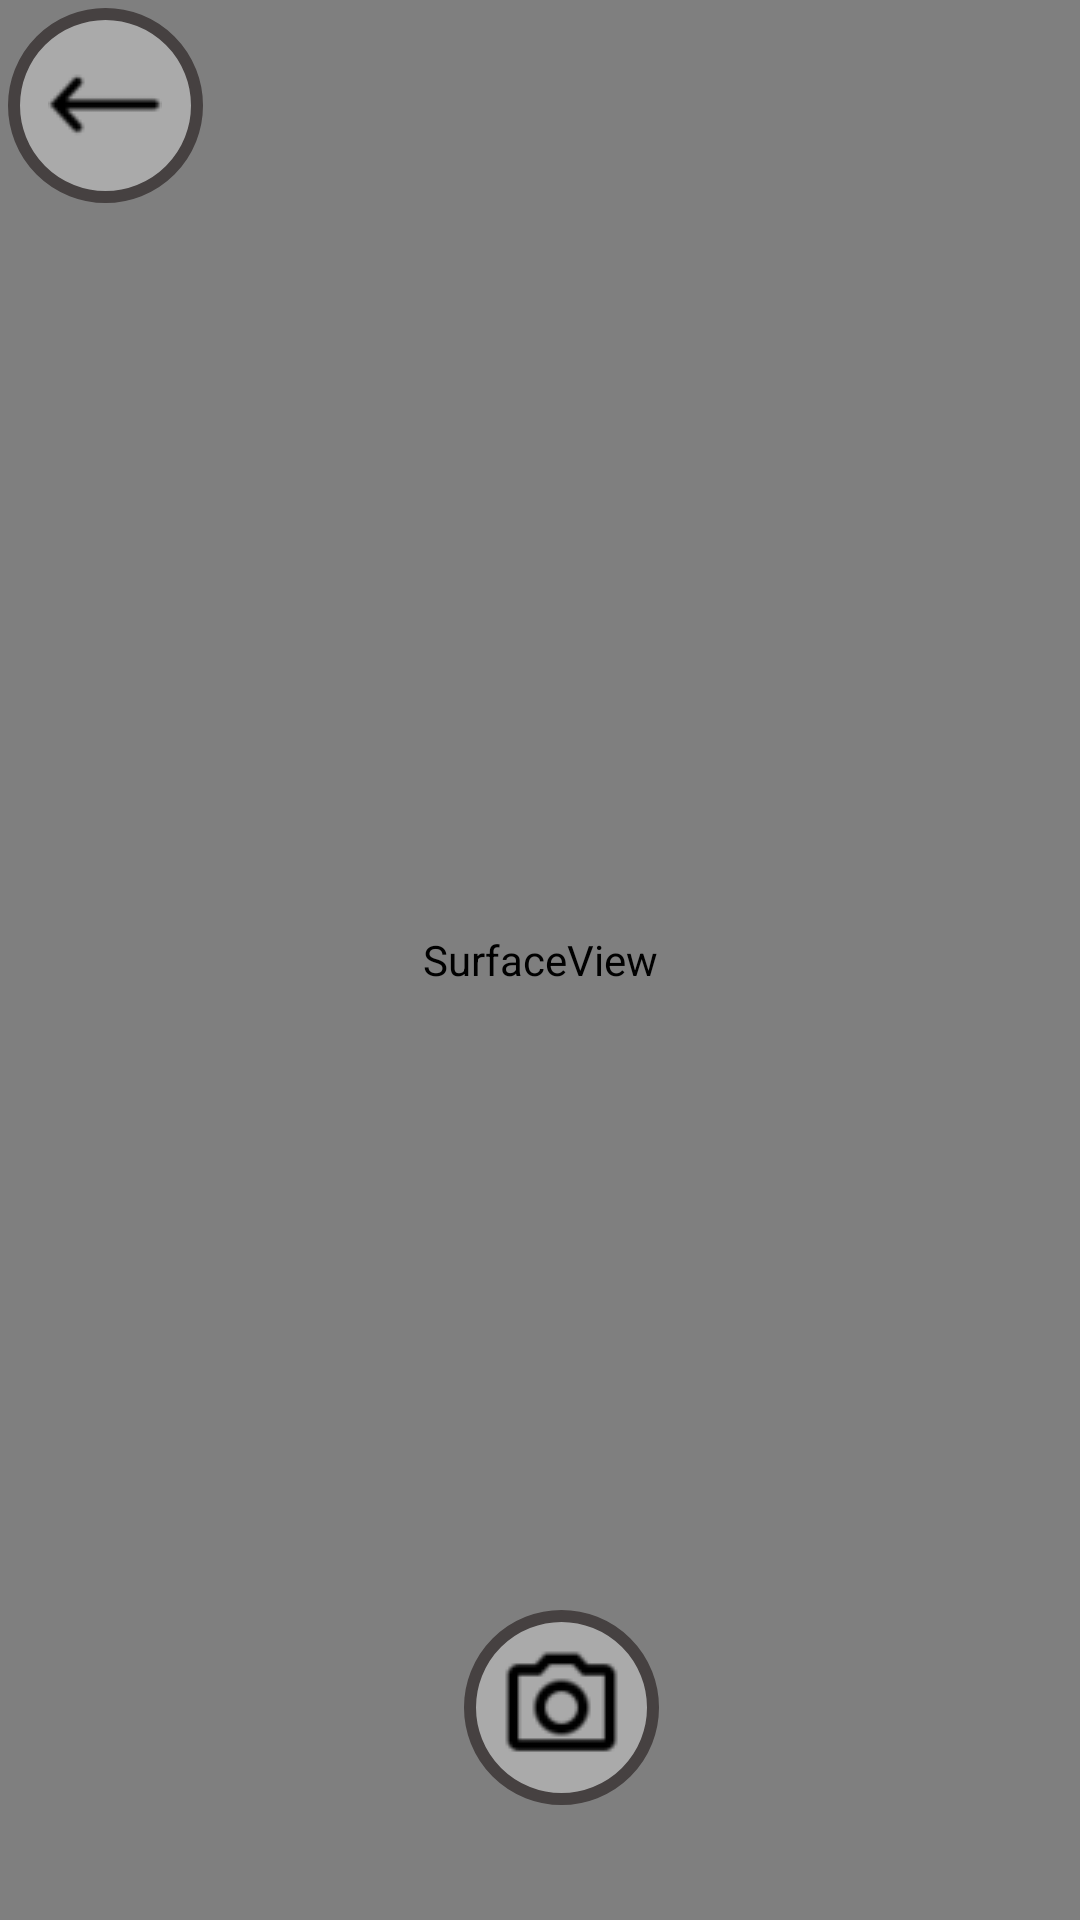

Point at icon controls on the screen. Image size 1080px x 1920px, points as point (x, y).
back arrow: point (105, 105)
camera: point (561, 1707)
